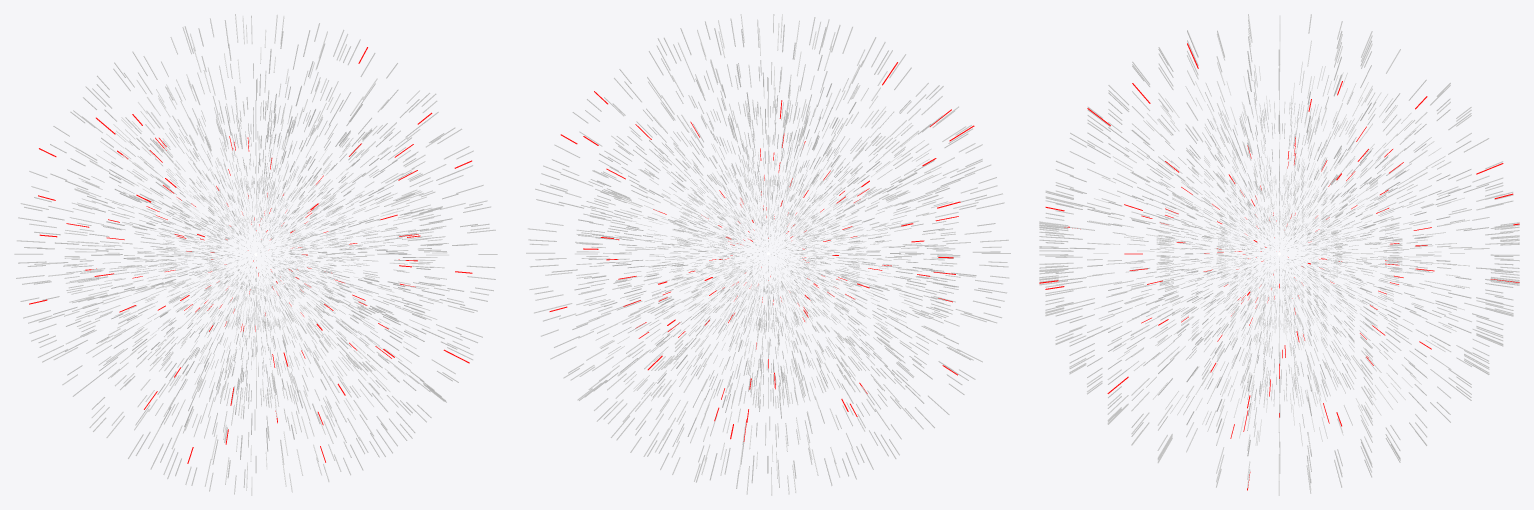
Rendered from allusion.glb.
3 renders of one model, left to right at view 1: azimuth 30°, elevation 25°; view 2: azimuth 150°, elevation 25°; view 3: azimuth 270°, elevation 25°, orthographic.
Parts seen in each view (by area): view 1: Material2 (×3); view 2: Material2 (×3); view 3: Material2 (×3).
Boxes of the visible parts, left/top/right/bottom form: Material2 (×3): left=14, top=14, right=497, bottom=495; Material2 (×3): left=526, top=14, right=1010, bottom=495; Material2 (×3): left=1039, top=14, right=1519, bottom=495.
Bounding box in the file's own units: 3.33 × 3.33 × 3.32.
